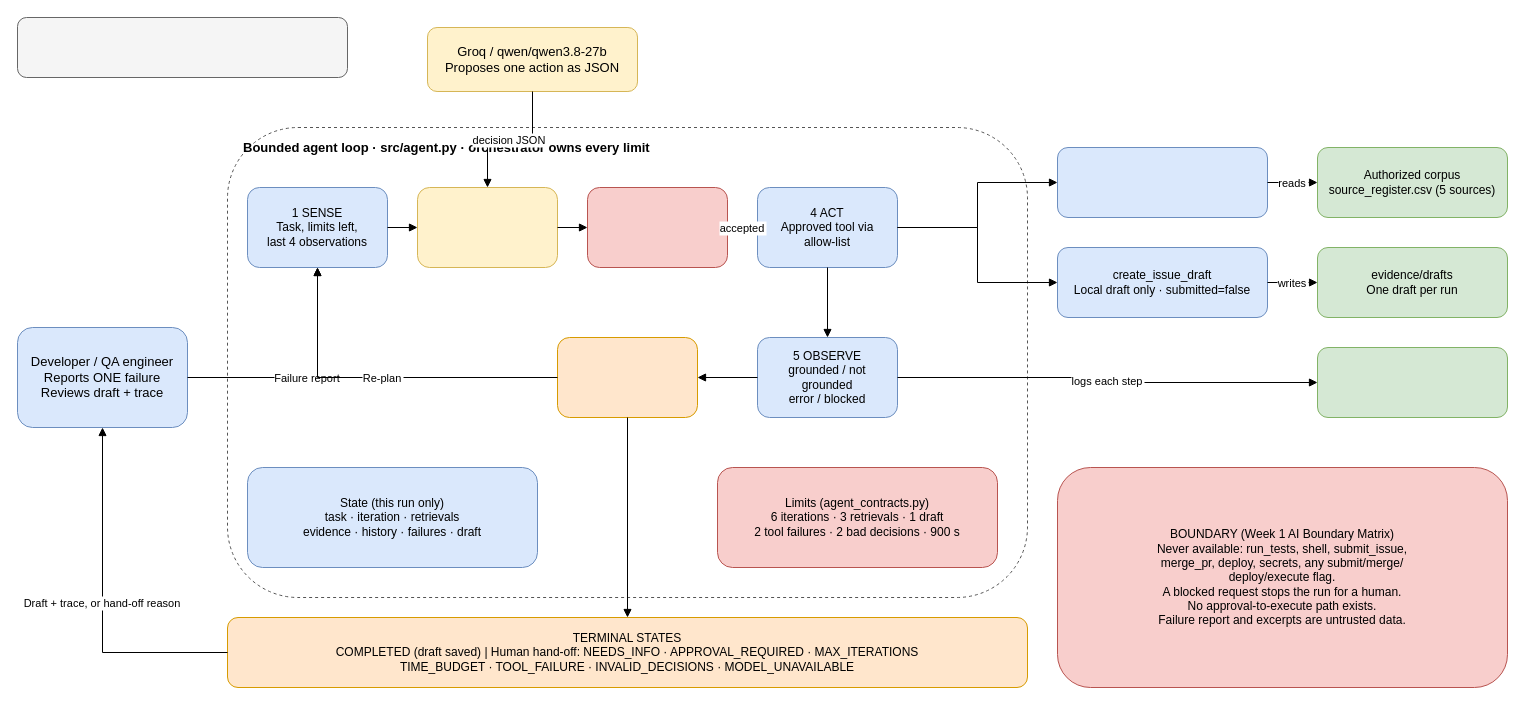
Image size: 1525x705. Some labels were removed from this diagram. Each missing label, with the box of its shape:
2 DECIDE Model picks ONE of: retrieve / draft / ask: (416, 186, 558, 268)
3 VALIDATE Schema + guards (deterministic): (586, 186, 728, 268)
6 STOP or RE-PLAN Limit or goal reached? else next iteration: (556, 336, 698, 418)
evidence/traces/agent_runs Every step: decision, guard, tool result, timing: (1316, 346, 1508, 418)
retrieve_project_evidence Read-only · top_k 3 · no generation: (1056, 146, 1268, 218)
WEEK 5 — AGENT ARCHITECTURE Group O · QA failure-triage agent: (16, 16, 348, 78)
